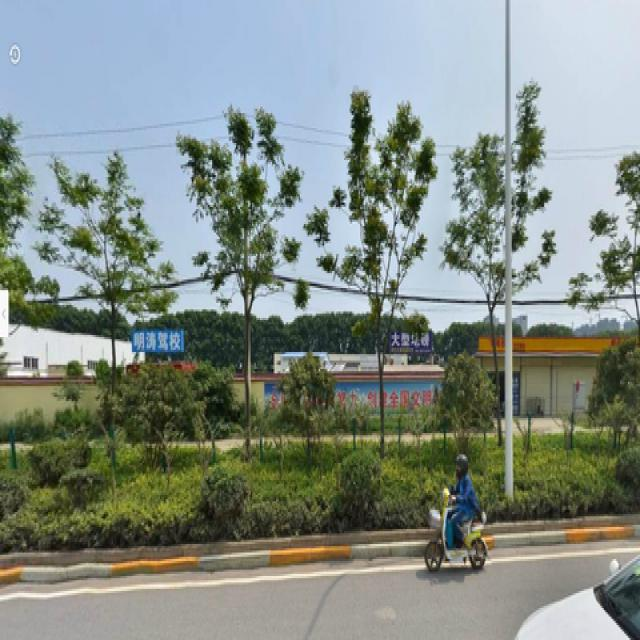koel: (315, 79, 424, 459), (181, 111, 304, 435)
